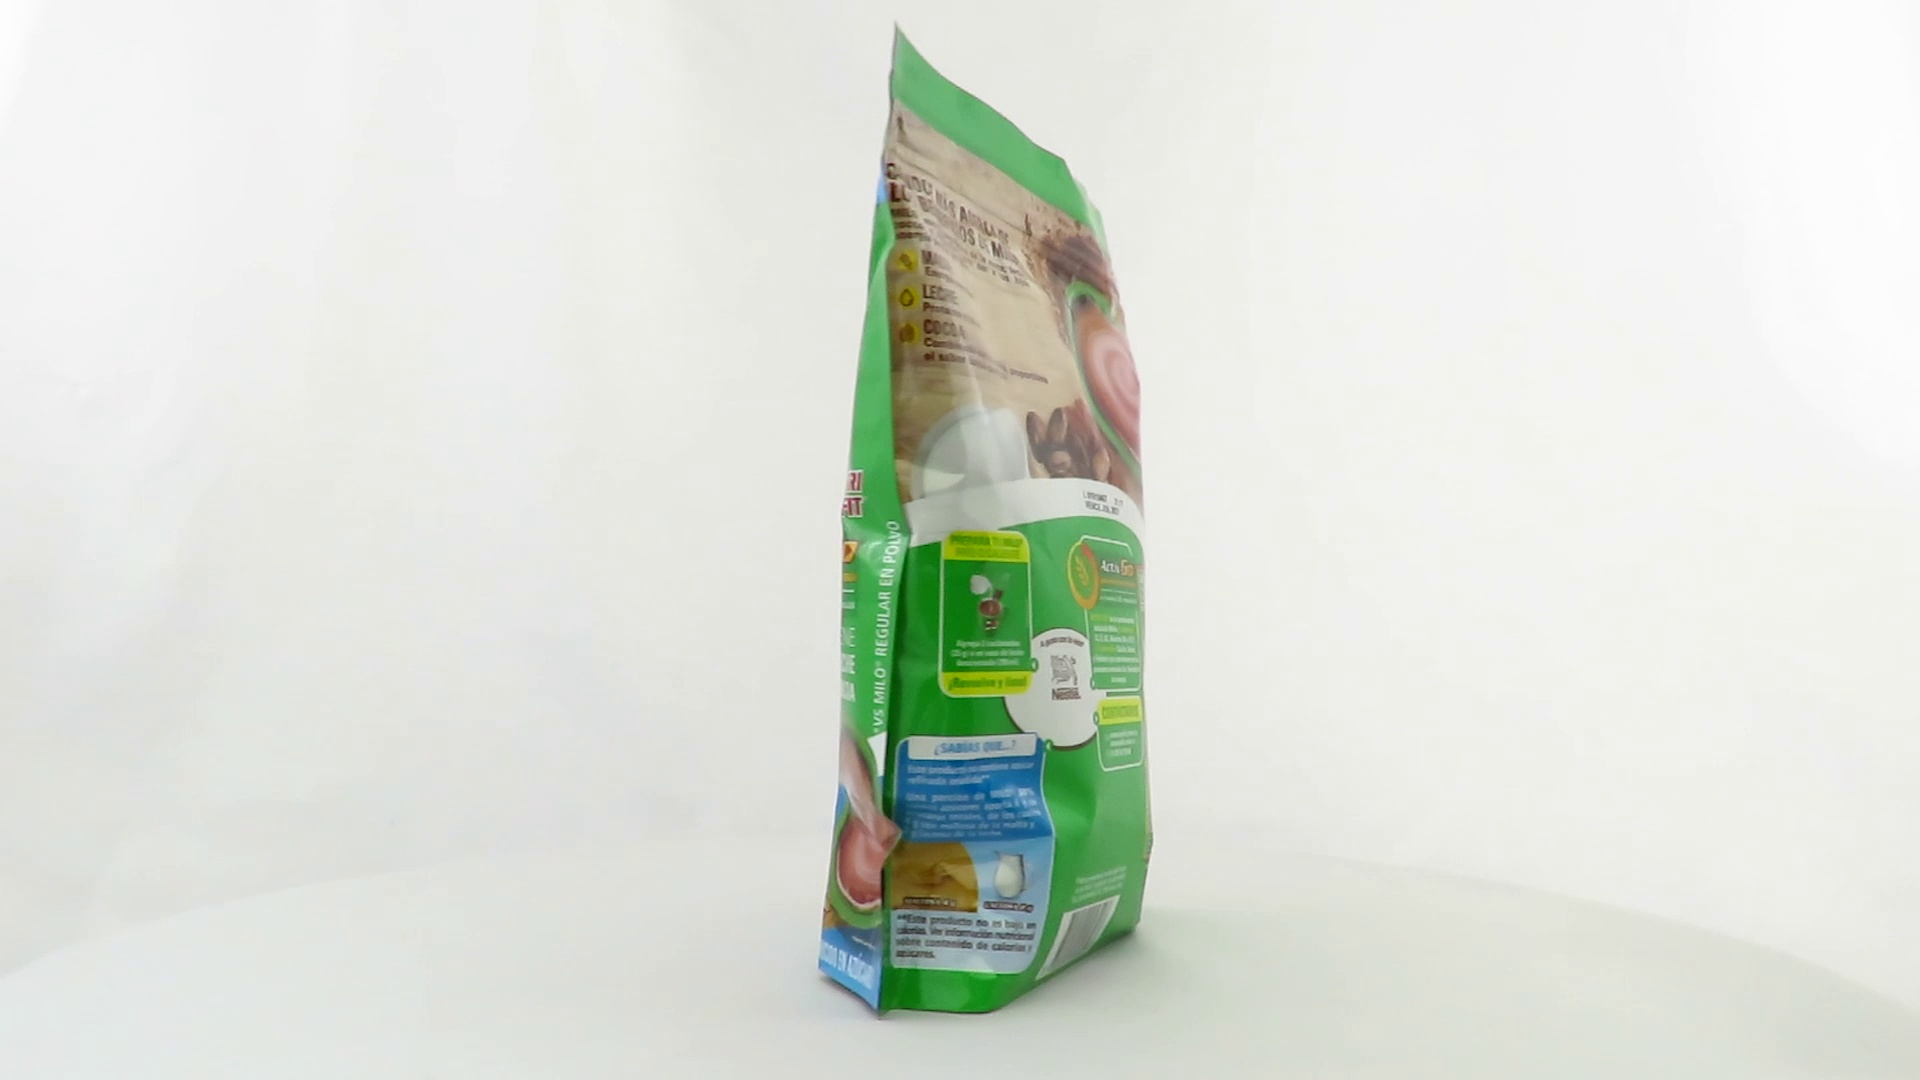COL0170205DYP50000: (814, 15, 1160, 1027)
